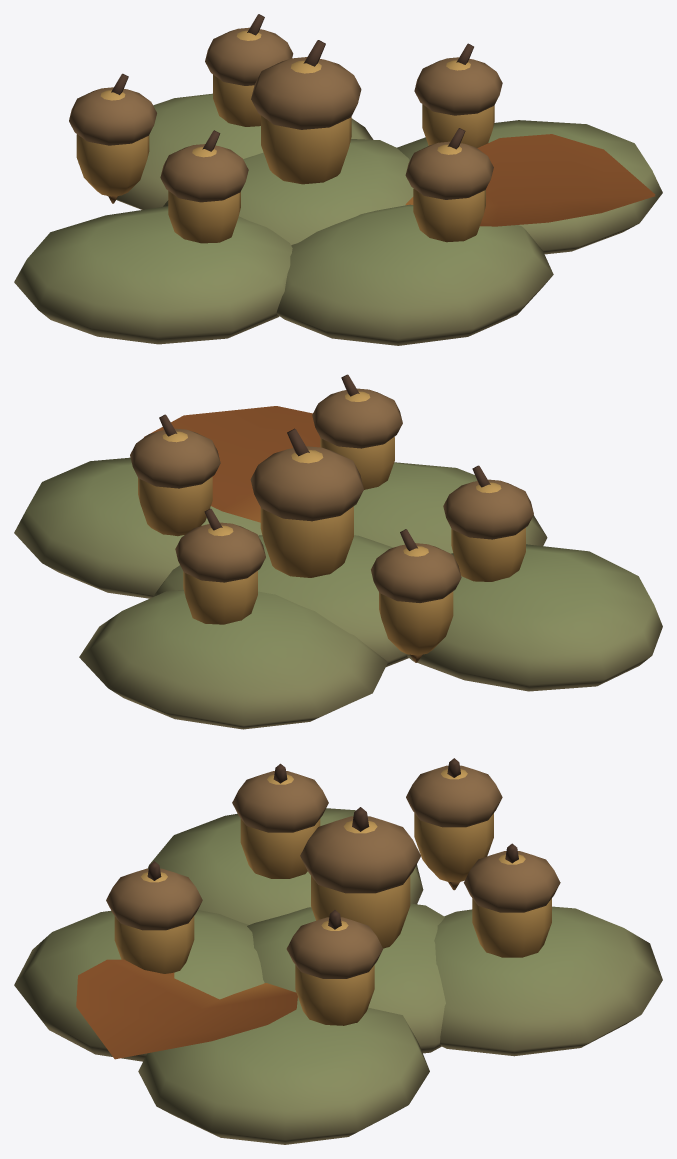
Rendered from ing_acorn.glb.
3 renders of one model, top to bottom at view 1: azimuth 30°, elevation 25°; view 2: azimuth 150°, elevation 25°; view 3: azimuth 270°, elevation 25°, orthographic. The views are drawn at different scales.
Parts seen in each view (by area): view 1: ing_acorn; view 2: ing_acorn; view 3: ing_acorn.
Boxes of the visible parts, x1,y1,x2,y2 form: ing_acorn: (14,14,662,345); ing_acorn: (14,374,662,729); ing_acorn: (14,758,662,1144).
Size of what is drawn, in the model's own units: 0.4691 by 0.1349 by 0.4074.
